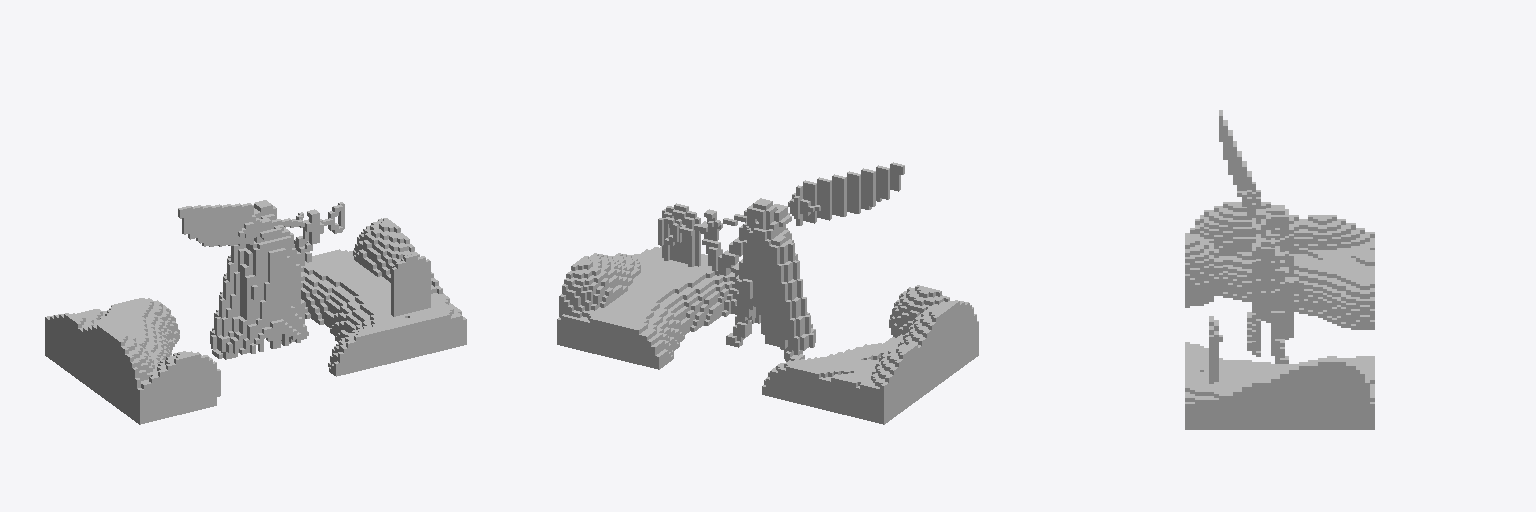
Rendered from knight.obj.
The picture shows the model from 3 angles: view 1: azimuth 30°, elevation 25°; view 2: azimuth 150°, elevation 25°; view 3: azimuth 270°, elevation 25°; orthographic projection.
Visible parts, largest first — view 1: Cuerpo; view 2: Cuerpo; view 3: Cuerpo.
Part boxes in pixels (x1,y1,x2,y2): Cuerpo: (45,200,466,424); Cuerpo: (557,162,978,424); Cuerpo: (1185,110,1374,429).
Bounding box in the file's own units: 8 × 4.4 × 4.